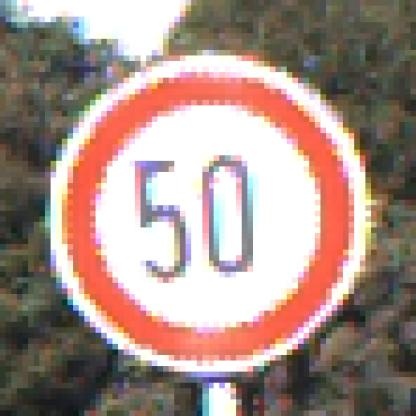Speed Limit 50: (66, 64, 351, 364)
